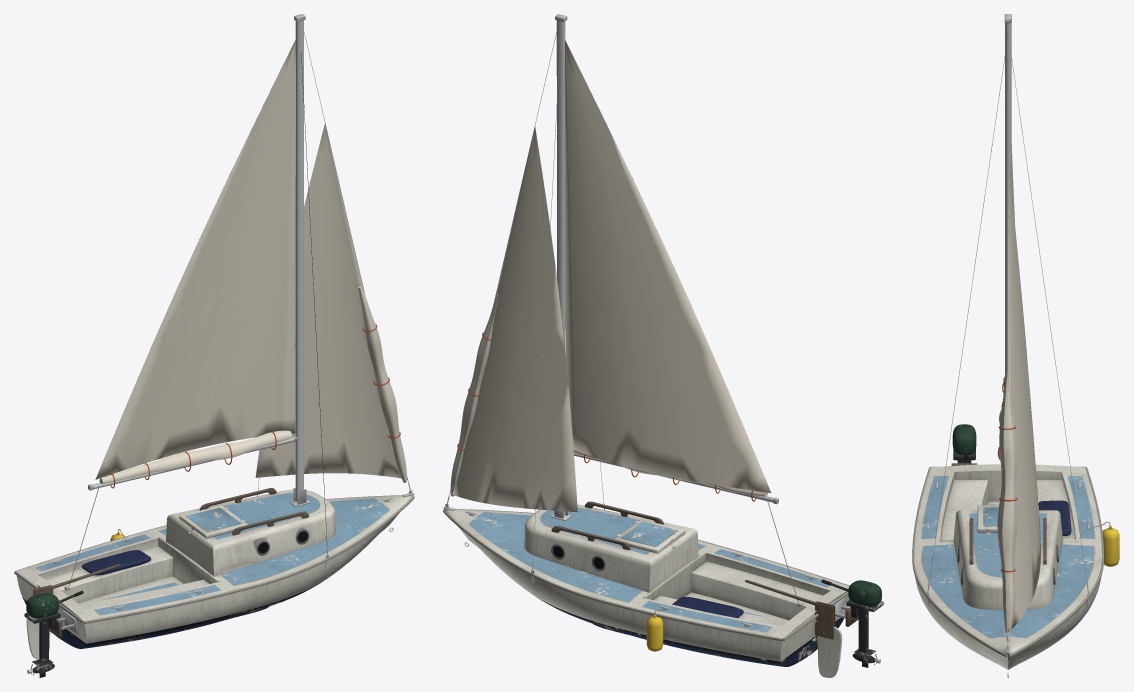
The model's file is sailboat.glb.
3 renders of one model, left to right at view 1: azimuth 30°, elevation 25°; view 2: azimuth 150°, elevation 25°; view 3: azimuth 270°, elevation 25°, orthographic. The views are drawn at different scales.
Parts seen in each view (by area): view 1: SM_PocketCruiserSailboat_SailsUp_M_PocketCruiserSailboat_0, SM_PocketCruiserSailboat_M_PocketCruiserSailboat_0, SM_PocketCruiserSailboat_Rudder_M_PocketCruiserSailboat_0; view 2: SM_PocketCruiserSailboat_SailsUp_M_PocketCruiserSailboat_0, SM_PocketCruiserSailboat_M_PocketCruiserSailboat_0, SM_PocketCruiserSailboat_Rudder_M_PocketCruiserSailboat_0; view 3: SM_PocketCruiserSailboat_M_PocketCruiserSailboat_0, SM_PocketCruiserSailboat_SailsUp_M_PocketCruiserSailboat_0.
Part boxes in pixels (x1,y1,x2,y2): SM_PocketCruiserSailboat_SailsUp_M_PocketCruiserSailboat_0: (95, 39, 407, 479); SM_PocketCruiserSailboat_M_PocketCruiserSailboat_0: (14, 14, 414, 677); SM_PocketCruiserSailboat_Rudder_M_PocketCruiserSailboat_0: (26, 564, 120, 659); SM_PocketCruiserSailboat_SailsUp_M_PocketCruiserSailboat_0: (450, 40, 771, 512); SM_PocketCruiserSailboat_M_PocketCruiserSailboat_0: (443, 14, 883, 667); SM_PocketCruiserSailboat_Rudder_M_PocketCruiserSailboat_0: (745, 579, 842, 677); SM_PocketCruiserSailboat_M_PocketCruiserSailboat_0: (912, 14, 1119, 677); SM_PocketCruiserSailboat_SailsUp_M_PocketCruiserSailboat_0: (1008, 145, 1040, 631).
Bounding box in the file's own units: 1 × 1.38 × 0.3912.
Materials: 1 (1 with a texture image).
